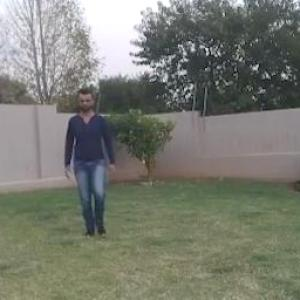follow: (68, 89, 115, 236)
